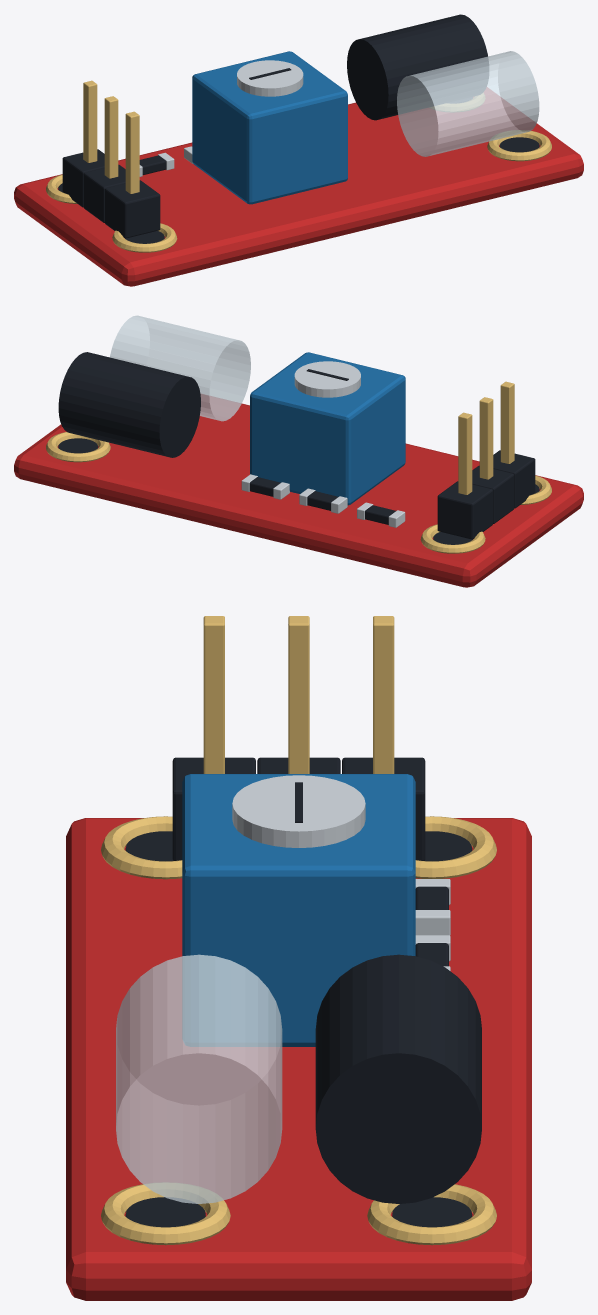
Rendered from infrared-sensor.glb.
3 views of the same model, one above another, from view 1: azimuth 30°, elevation 25°; view 2: azimuth 150°, elevation 25°; view 3: azimuth 270°, elevation 25° (orthographic). The views are drawn at different scales.
Visible parts, largest first — view 1: Static body • redPCB, Static body • black, Static body • blue, Static body • glass, Static body • gold, Static body • silver; view 2: Static body • redPCB, Static body • black, Static body • blue, Static body • glass, Static body • gold, Static body • silver; view 3: Static body • redPCB, Static body • black, Static body • blue, Static body • glass, Static body • gold, Static body • silver.
Boxes of the visible parts, x1=… form: Static body • redPCB: x1=14, y1=87, x2=583, y2=286; Static body • black: x1=58, y1=14, x2=539, y2=243; Static body • blue: x1=192, y1=51, x2=347, y2=204; Static body • glass: x1=397, y1=51, x2=539, y2=156; Static body • gold: x1=46, y1=80, x2=551, y2=252; Static body • silver: x1=139, y1=60, x2=303, y2=176; Static body • redPCB: x1=14, y1=394, x2=583, y2=587; Static body • black: x1=58, y1=352, x2=539, y2=544; Static body • blue: x1=250, y1=352, x2=405, y2=505; Static body • glass: x1=110, y1=315, x2=250, y2=421; Static body • gold: x1=46, y1=381, x2=551, y2=553; Static body • silver: x1=241, y1=361, x2=405, y2=527; Static body • redPCB: x1=66, y1=818, x2=531, y2=1300; Static body • black: x1=125, y1=757, x2=481, y2=1227; Static body • blue: x1=182, y1=774, x2=415, y2=1046; Static body • glass: x1=116, y1=954, x2=282, y2=1203; Static body • gold: x1=101, y1=616, x2=496, y2=1245; Static body • silver: x1=232, y1=775, x2=450, y2=970.
Size of the model in its own units: 32 by 9.3 by 14.
